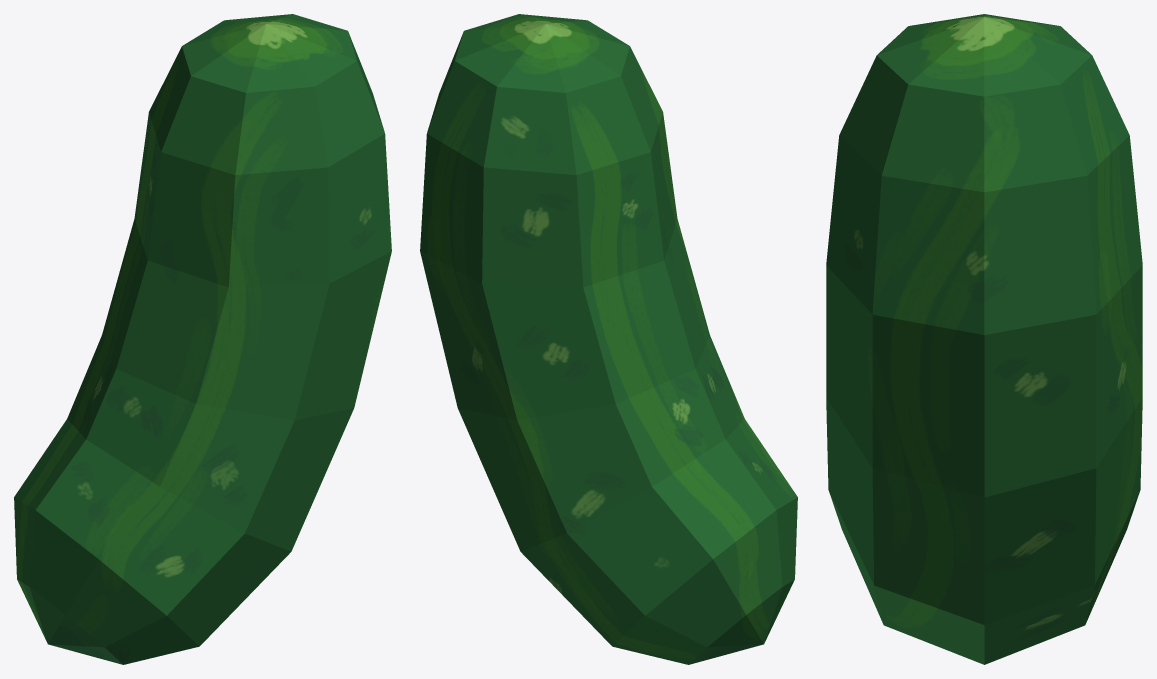
File: cumberXD.glb
3 views of the same model, side by side, from view 1: azimuth 30°, elevation 25°; view 2: azimuth 150°, elevation 25°; view 3: azimuth 270°, elevation 25° (orthographic). The views are drawn at different scales.
Visible parts, largest first — view 1: Circle; view 2: Circle; view 3: Circle.
Boxes of the visible parts, x1,y1,x2,y2 form: Circle: (14,14,391,664); Circle: (420,14,797,664); Circle: (826,14,1142,664).
Bounding box in the file's own units: 1.24 × 2.02 × 0.8204.
1 material, 1 textured.
